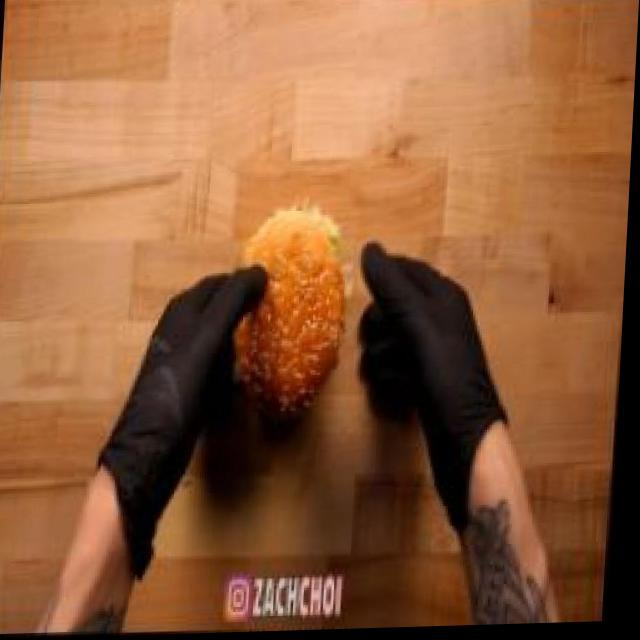burger: (221, 188, 362, 449)
